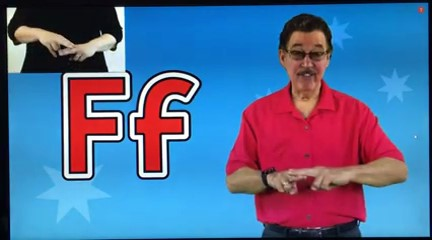F: (272, 164, 351, 199), (41, 26, 98, 65)
